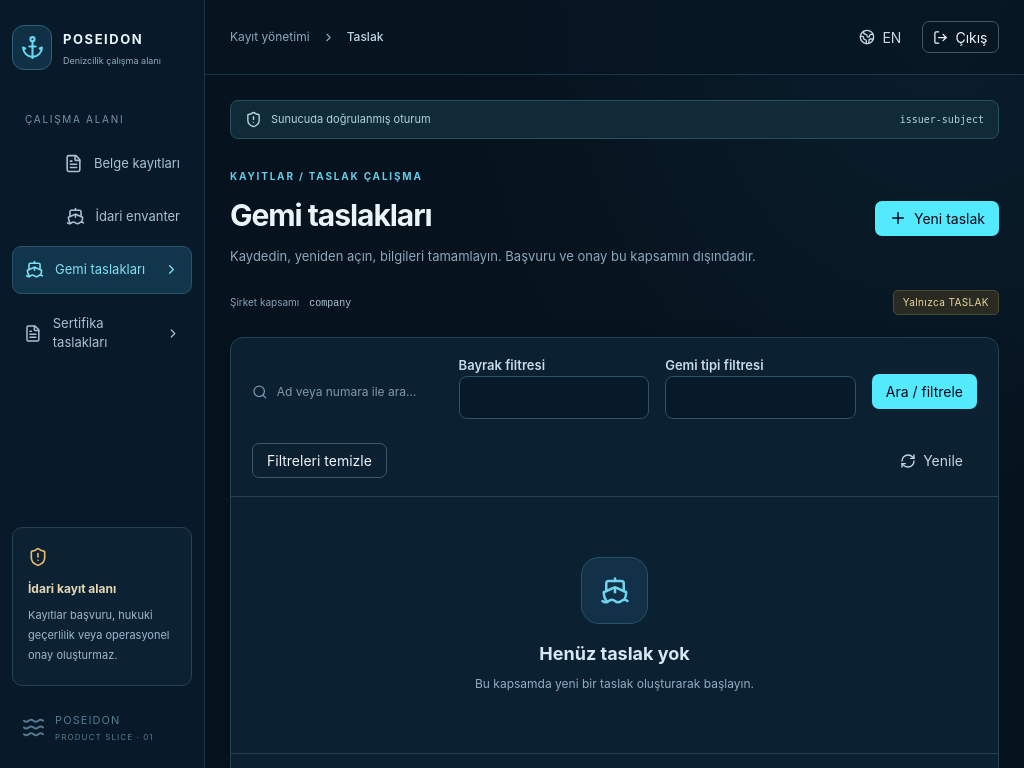
Scenario: BFF browser mode › binds deferred logout to displayed A and preserves replacement B on mismatch
Expected: the heading "Henüz taslak yok" is shown, [539,643,690,664]
Click the button "Yeni taslak".
click(937, 218)  # box [875,201,999,236]
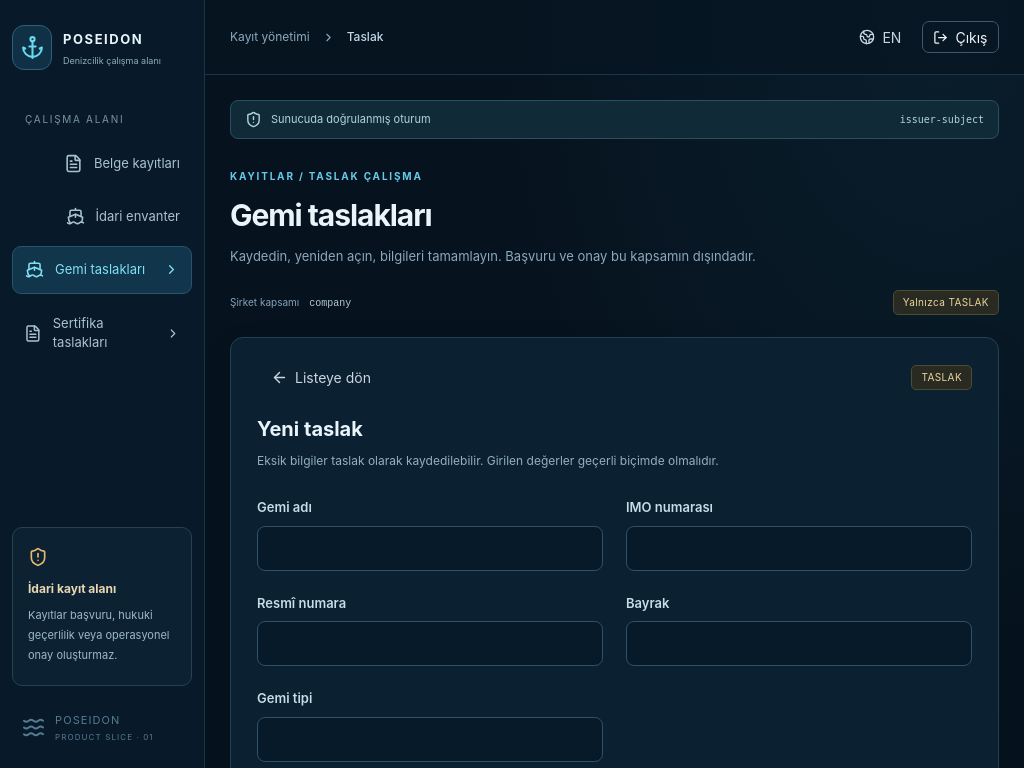
Type "Unsaved BFF" into the field labelled "Gemi adı".
click(430, 548); type("Unsaved BFF")  # box [257,526,603,571]
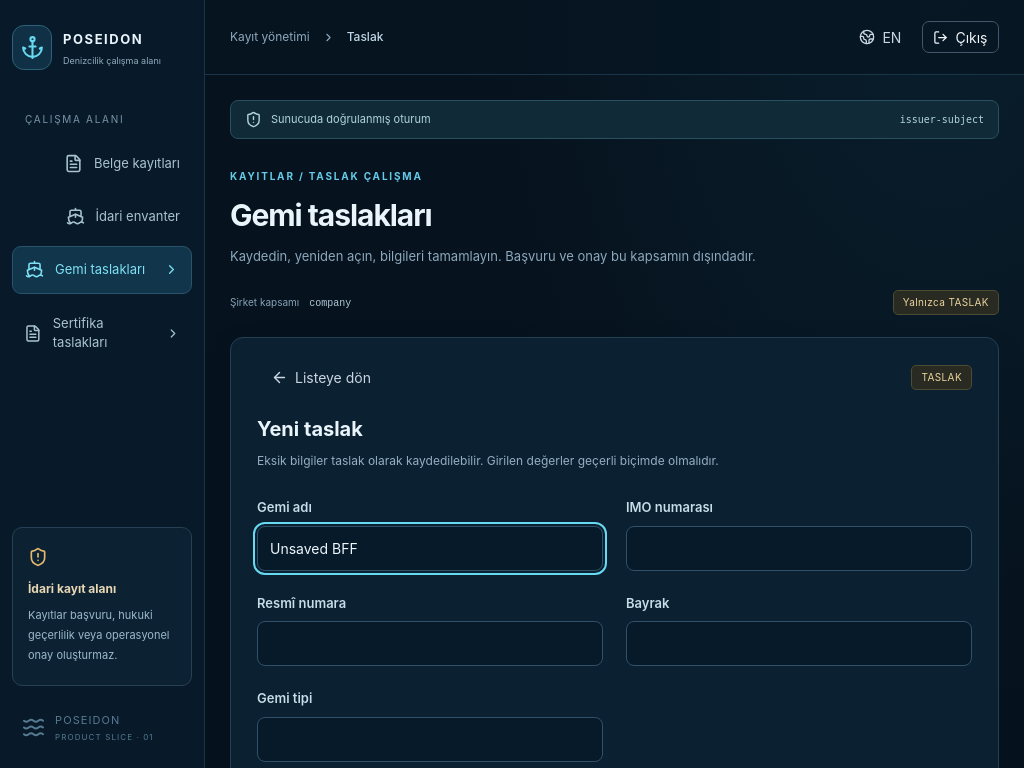
Click the button "Çıkış".
click(960, 37)  # box [922,21,999,53]
(page scrolled)
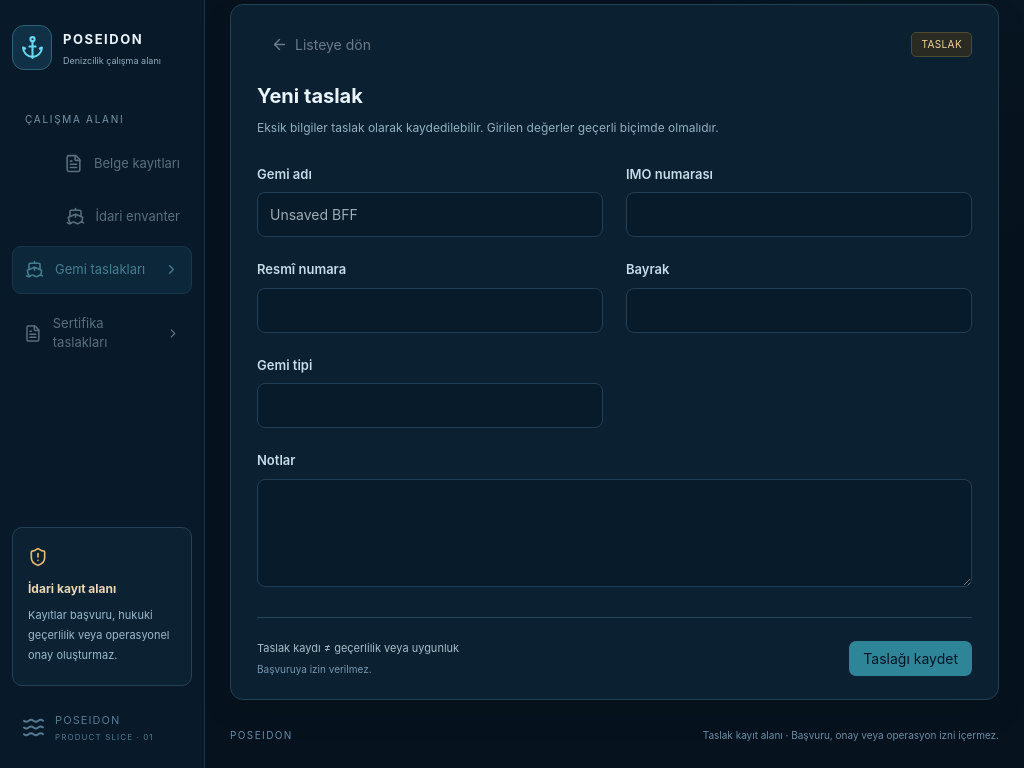
Now the button "Taslağı kaydet" is disabled, box [849,641,972,676]
